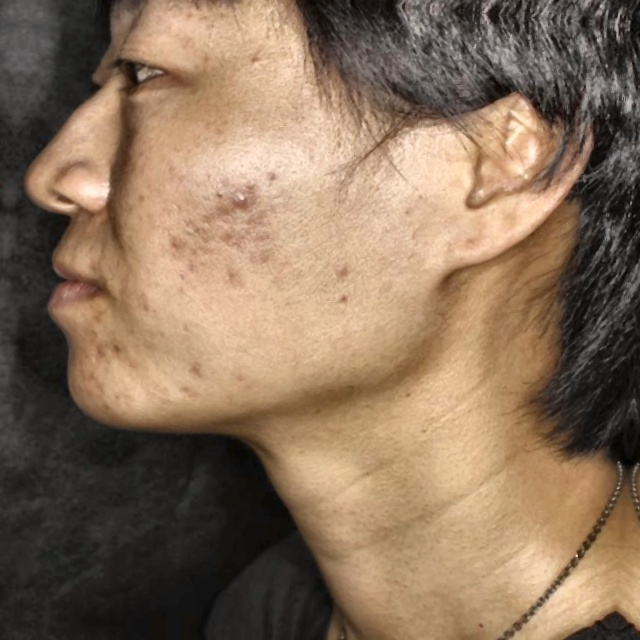comedone: (89, 332, 129, 368), (223, 180, 261, 217)
